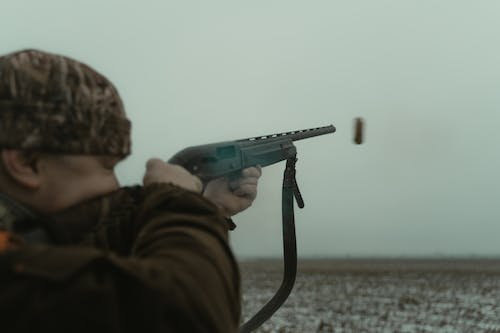gun: (52, 123, 338, 246)
